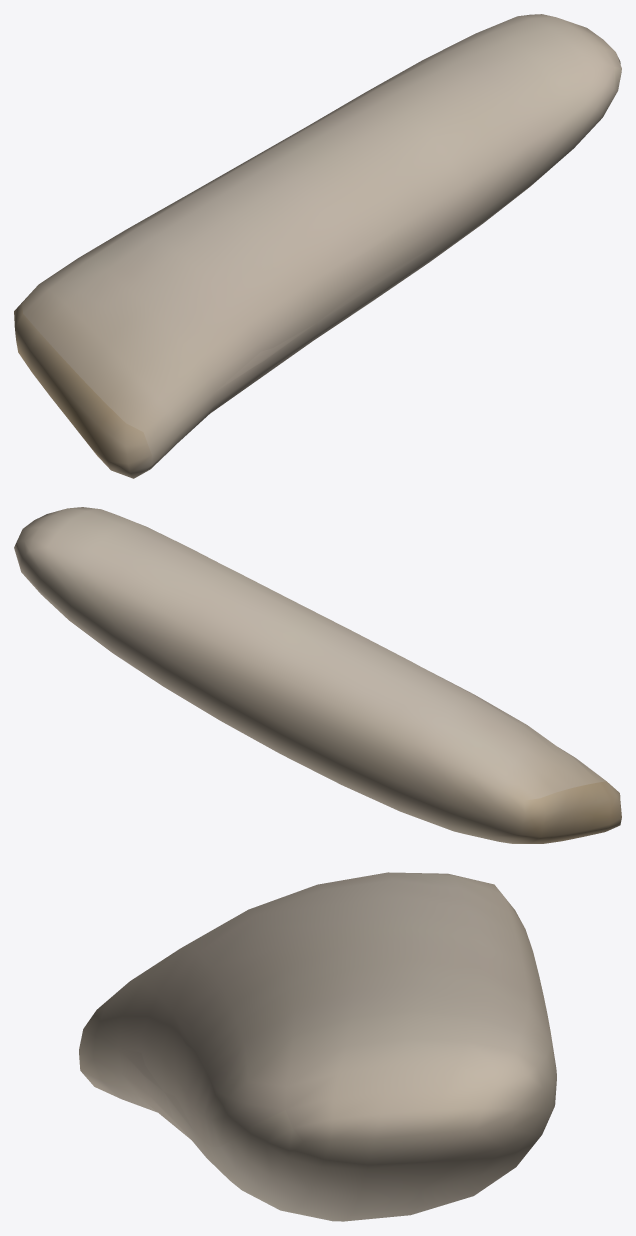
3 renders of one model, top to bottom at view 1: azimuth 30°, elevation 25°; view 2: azimuth 150°, elevation 25°; view 3: azimuth 270°, elevation 25°, orthographic. The views are drawn at different scales.
Parts seen in each view (by area): view 1: CC L2, CC L2 low; view 2: CC L2; view 3: CC L2, CC L2 low.
Part boxes in pixels (bbox=[...]): CC L2: bbox=[14, 14, 621, 478]; CC L2 low: bbox=[202, 142, 520, 411]; CC L2: bbox=[14, 507, 621, 843]; CC L2: bbox=[79, 872, 556, 1221]; CC L2 low: bbox=[118, 936, 525, 1139].
Bounding box in the file's own units: 1.55 × 0.6837 × 0.6023.
Materials: 1 (1 with a texture image).
